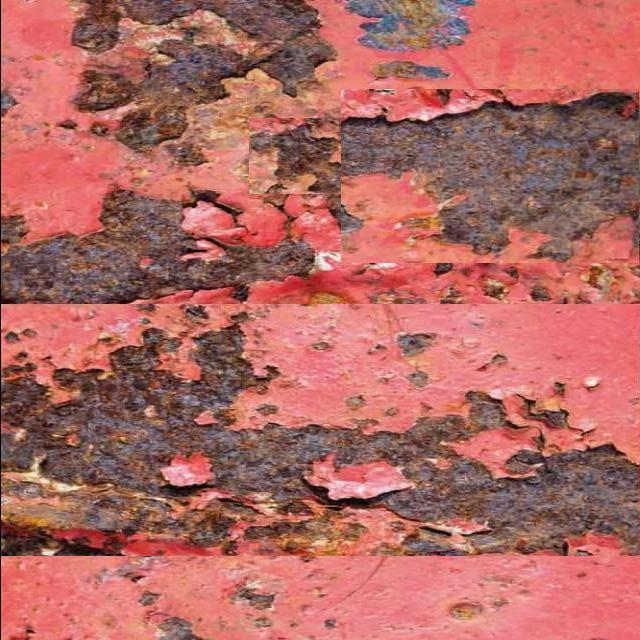Uniform Corrosion: (2, 0, 639, 557), (231, 580, 274, 609), (153, 620, 196, 639)
